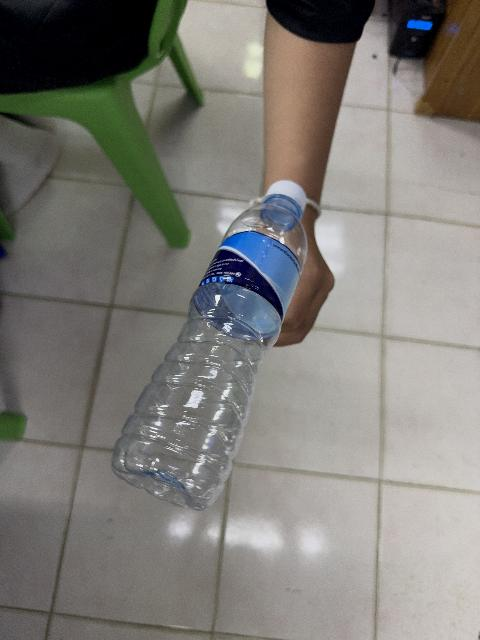bottle: (112, 181, 305, 509)
